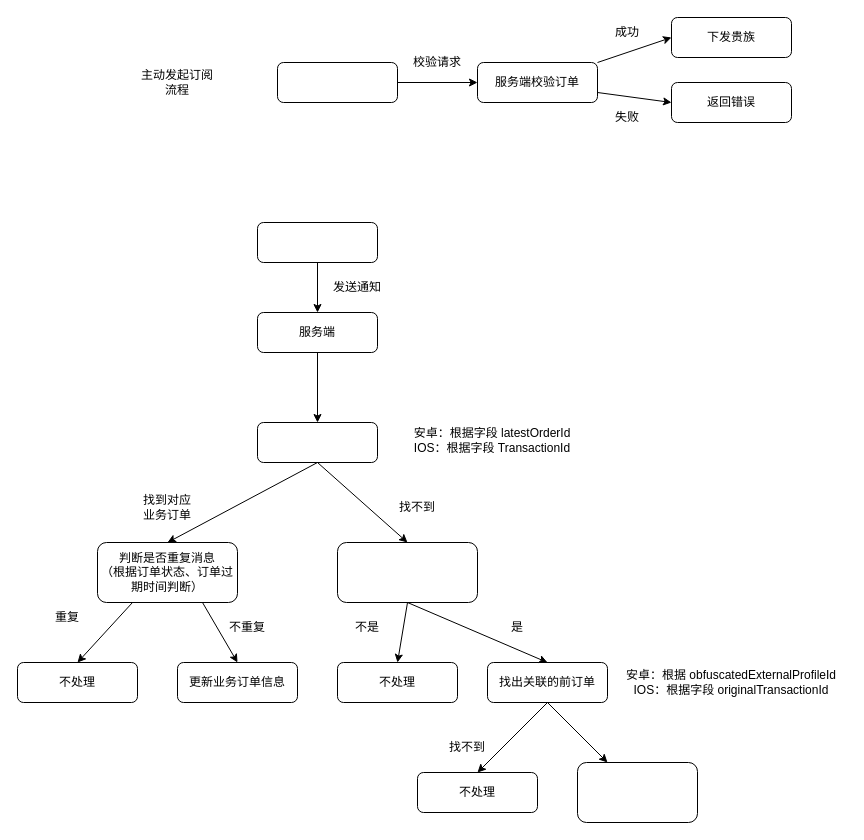
Image size: 864x840. Some labels were removed from this diagram. The centre of each missing label's shape, as x and y in pixels:
判断是否续订订单 （订单类型需要是 SUBSCRIPTION）: the point at 407,572
官方平台: the point at 317,242
客户端支付成功: the point at 337,82
插入新订单: the point at 637,792
根据平台交易ID 查找业务订单: the point at 317,442
